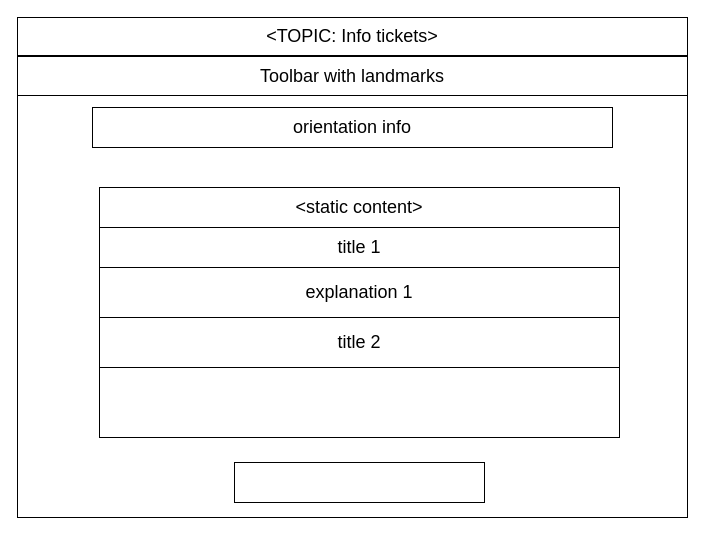
This 705x535 diagram has some shape labels left out. The centre of each missing label's shape, as x and y in pixels:
"contact us <transitional link>" goes at point (359, 482).
"explanation 2" goes at point (359, 402).
